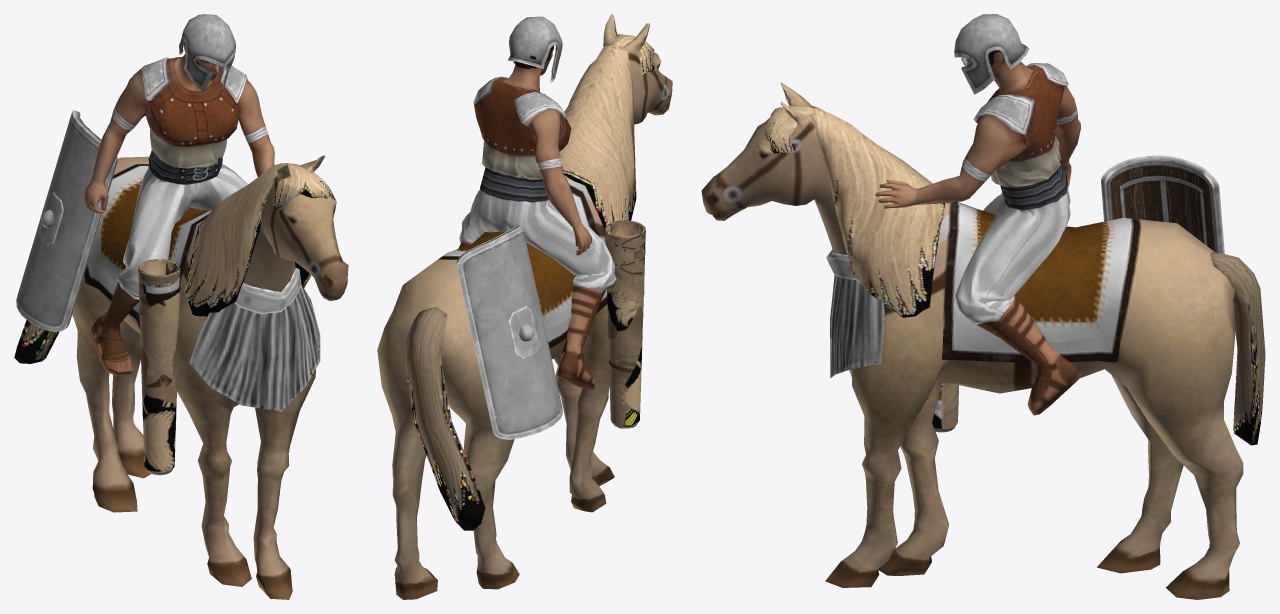
File: 22-turma.glb
3 renders of one model, left to right at view 1: azimuth 30°, elevation 25°; view 2: azimuth 150°, elevation 25°; view 3: azimuth 270°, elevation 25°, orthographic. The views are drawn at different scales.
Bounding box in the file's own units: 1.02 × 2.9 × 2.63.
Materials: 4 (4 with a texture image).
